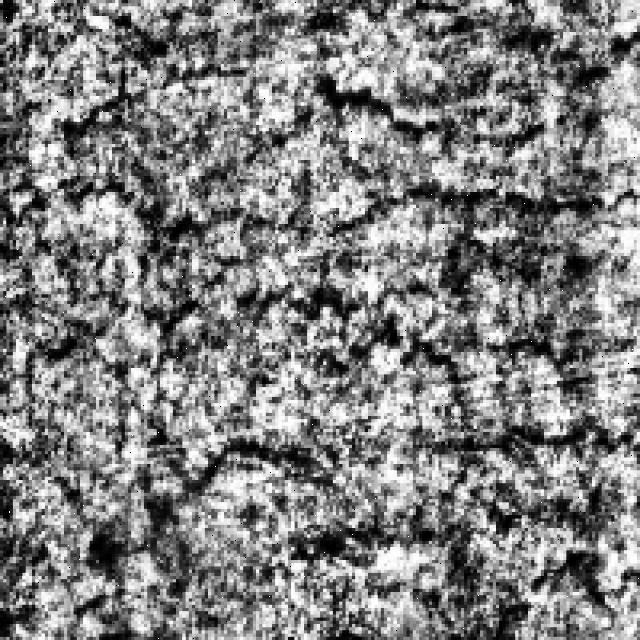Pitted_Surface: (22, 240, 637, 528), (179, 12, 634, 230)
